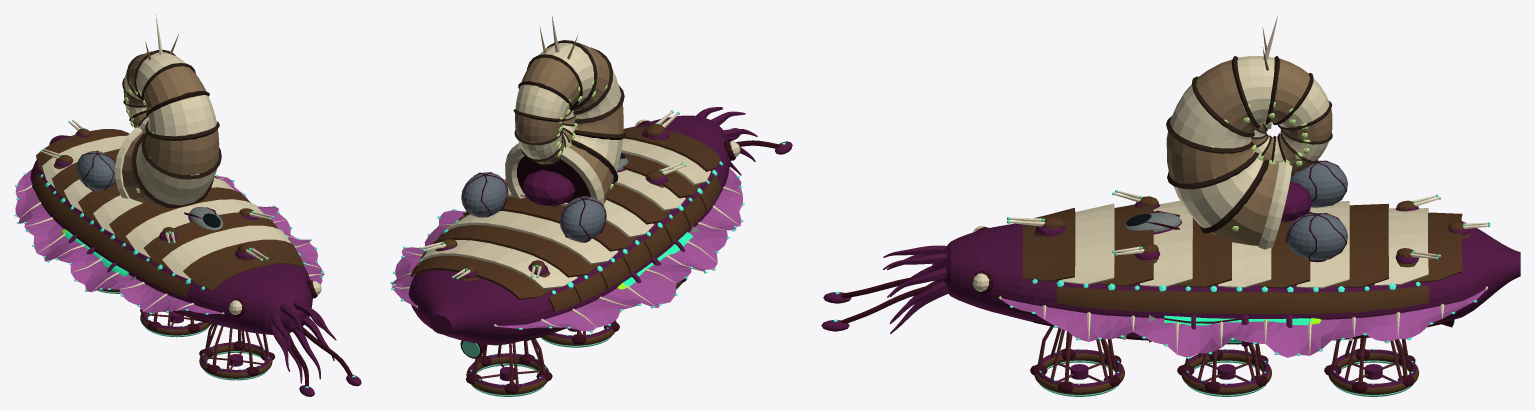
The model's file is cruiser.obj.
3 renders of one model, left to right at view 1: azimuth 30°, elevation 25°; view 2: azimuth 150°, elevation 25°; view 3: azimuth 270°, elevation 25°, orthographic. The views are drawn at different scales.
Visible parts, largest first — view 1: cruiser; view 2: cruiser; view 3: cruiser.
Part boxes in pixels (x1,y1,x2,y2): cruiser: [14, 14, 361, 396]; cruiser: [390, 15, 792, 396]; cruiser: [821, 15, 1520, 396].
Size of the model in its own units: 361 by 461 by 800.
1 material, 1 textured.
